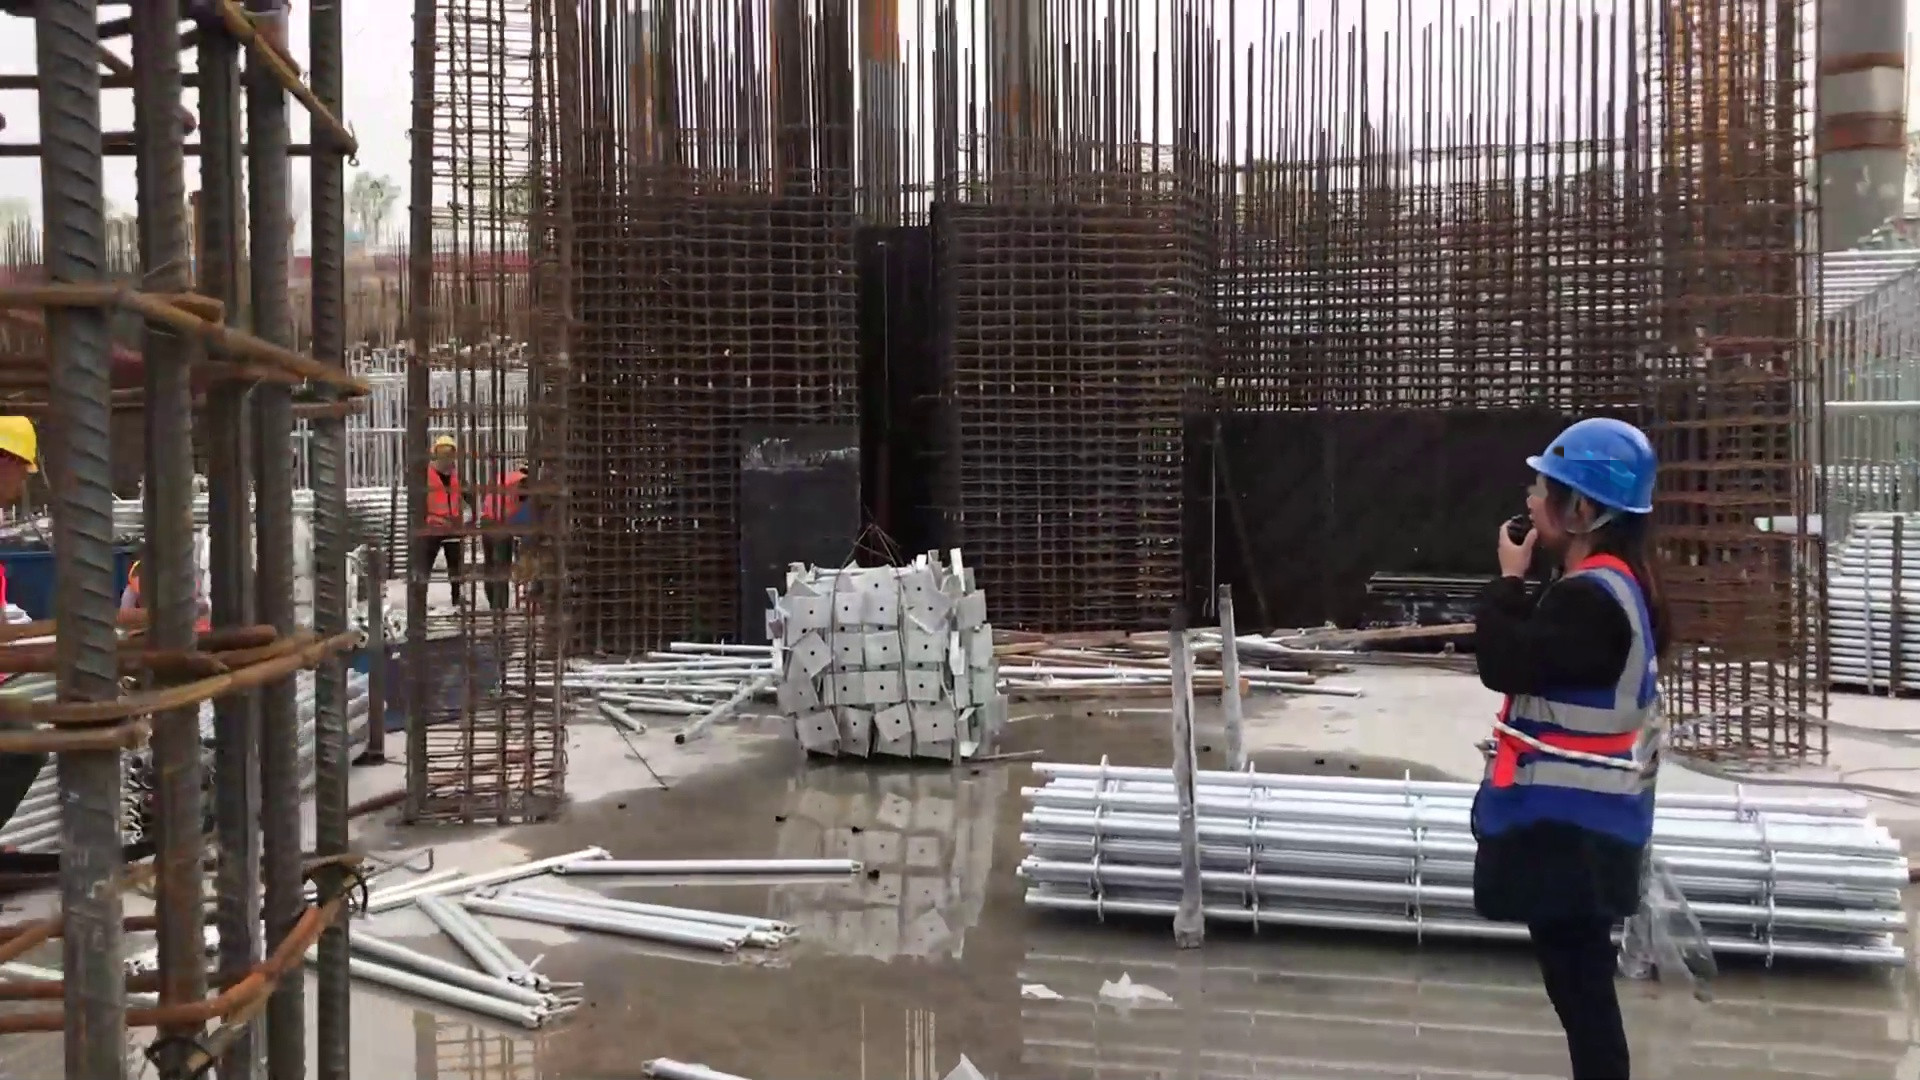helmet: (1522, 410, 1662, 524), (1, 415, 41, 477), (434, 433, 459, 457)
person: (1472, 405, 1679, 1080), (416, 434, 468, 614), (478, 463, 537, 607), (1, 413, 39, 627)
vest: (1478, 552, 1661, 858), (425, 469, 467, 538), (480, 466, 526, 524)
